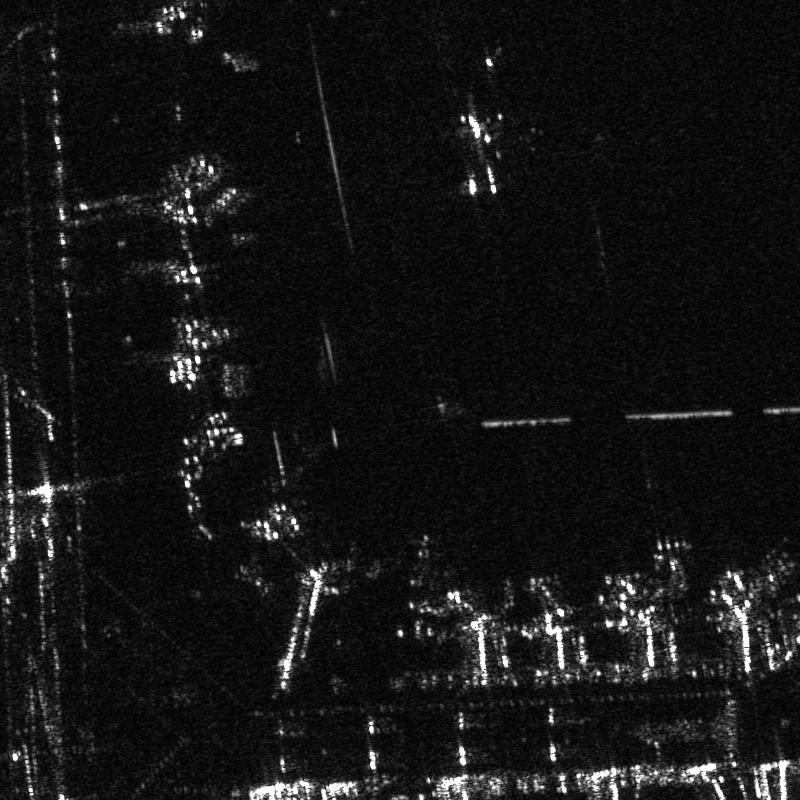A320/321: (162, 142, 276, 245)
other: (436, 88, 524, 208)
